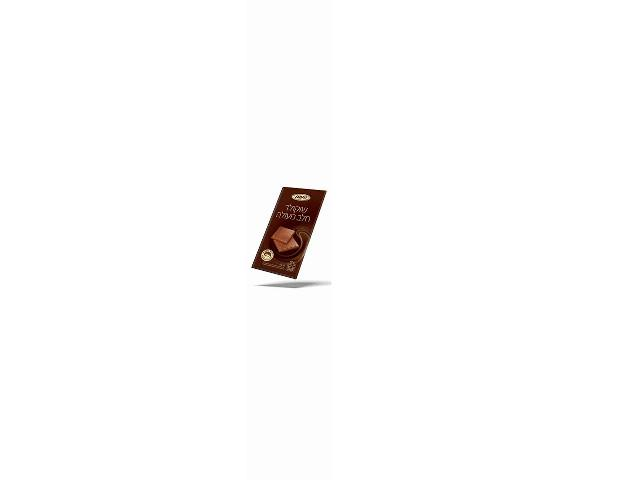chocolate: (248, 185, 327, 283)
